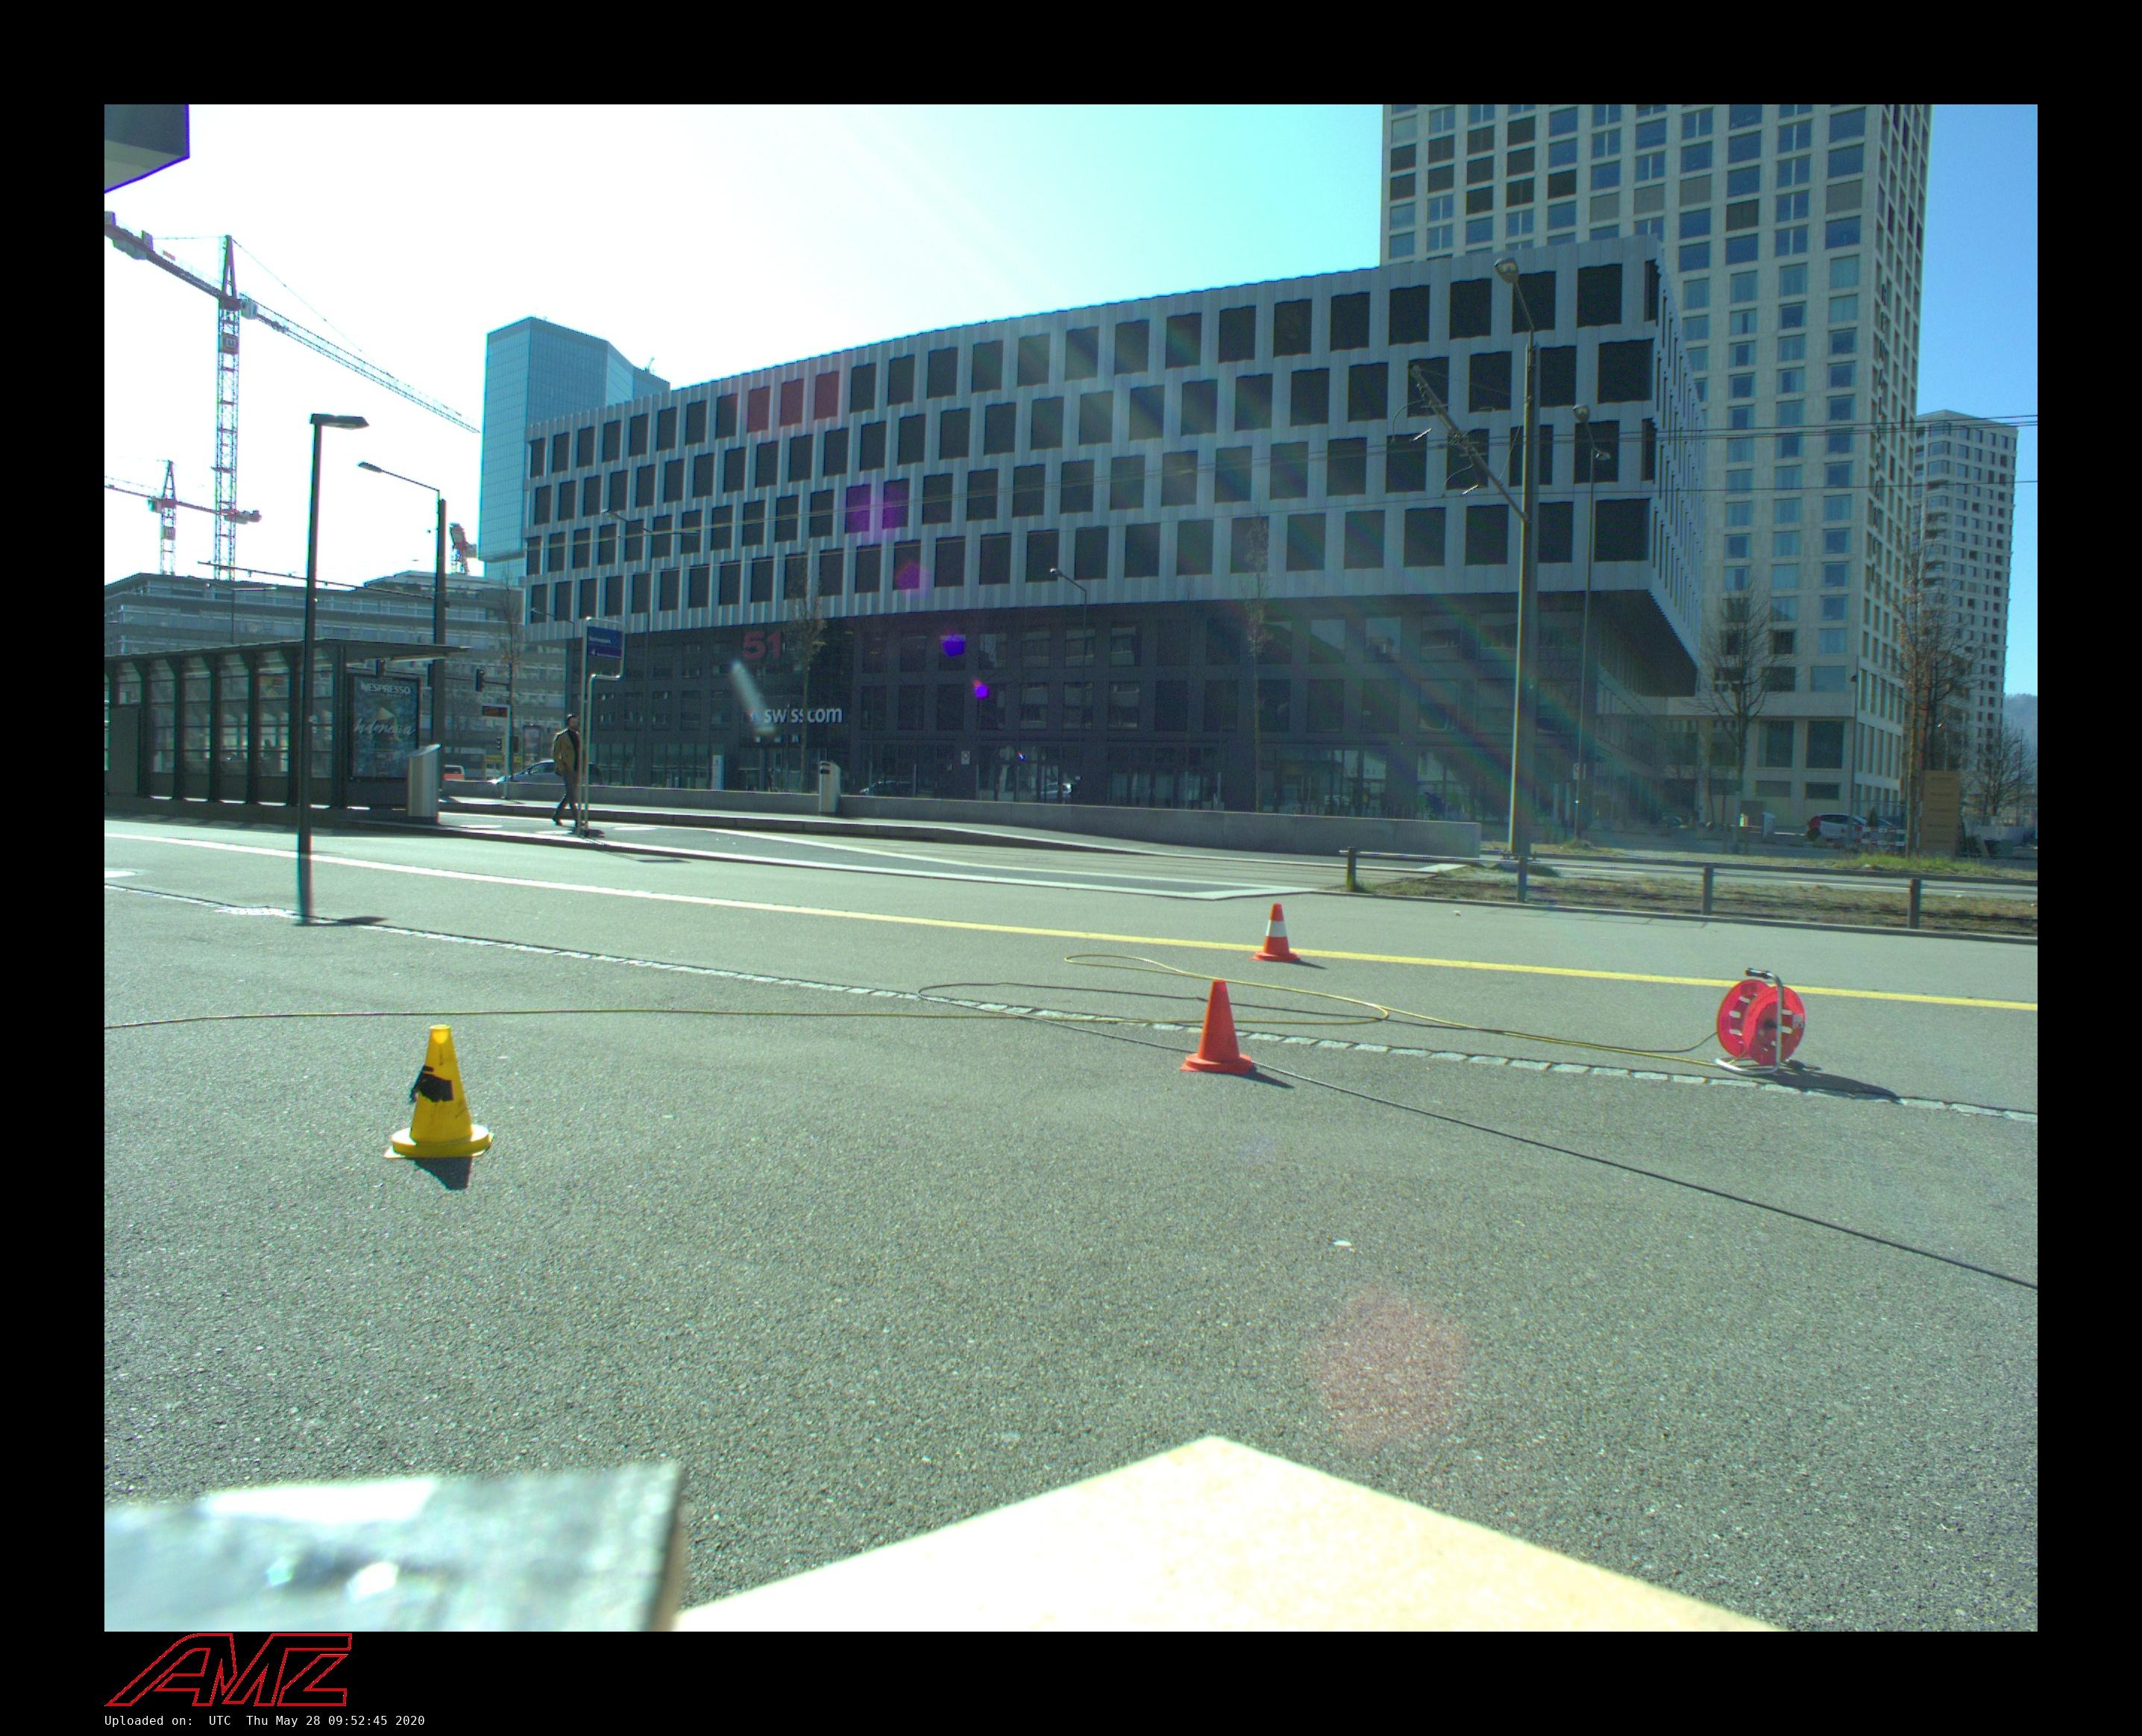orange_cone: (1180, 978, 1254, 1073), (1251, 903, 1302, 962)
yellow_cone: (384, 1026, 494, 1160)
